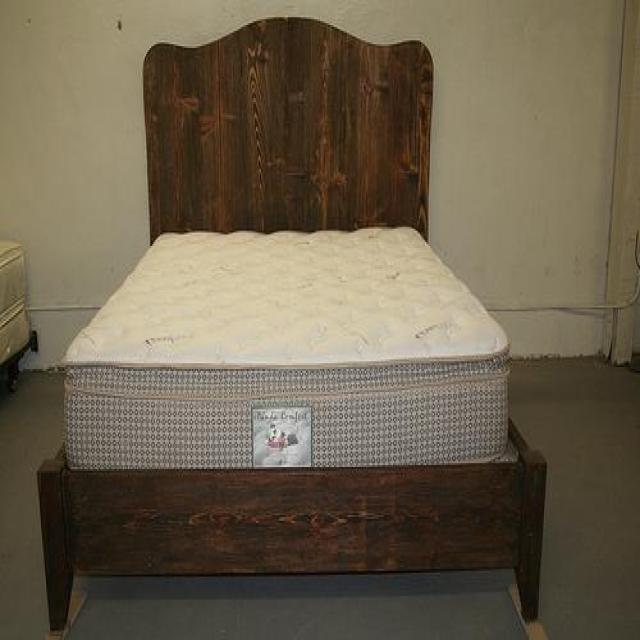bed: (36, 14, 546, 638)
